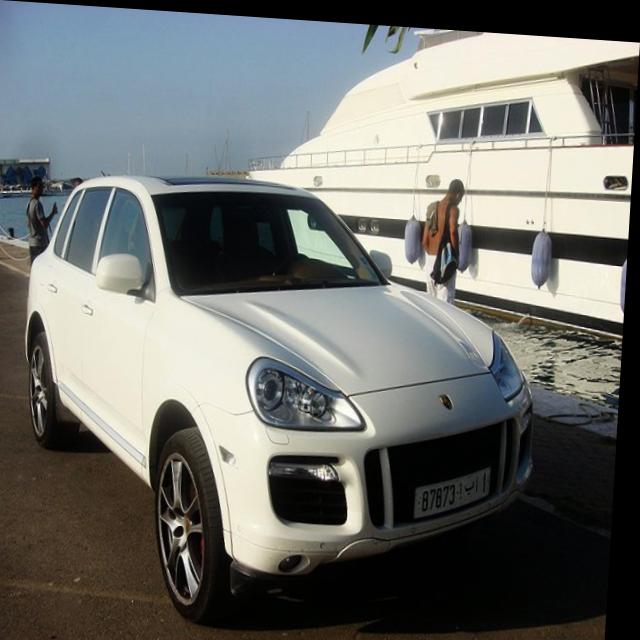License-Plate: (420, 461, 496, 511)
